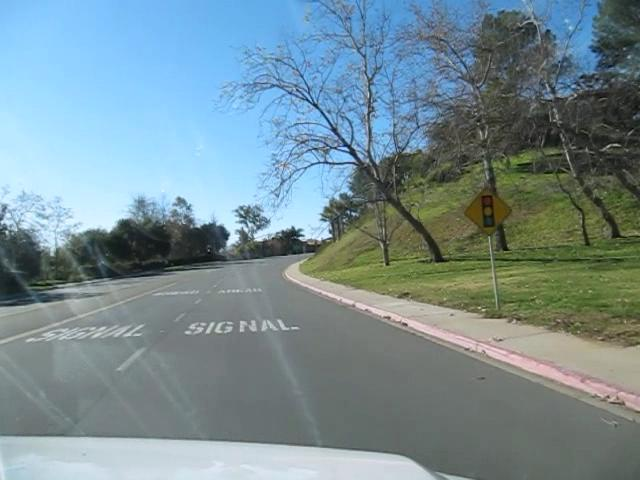signalAhead: (463, 184, 513, 237)
